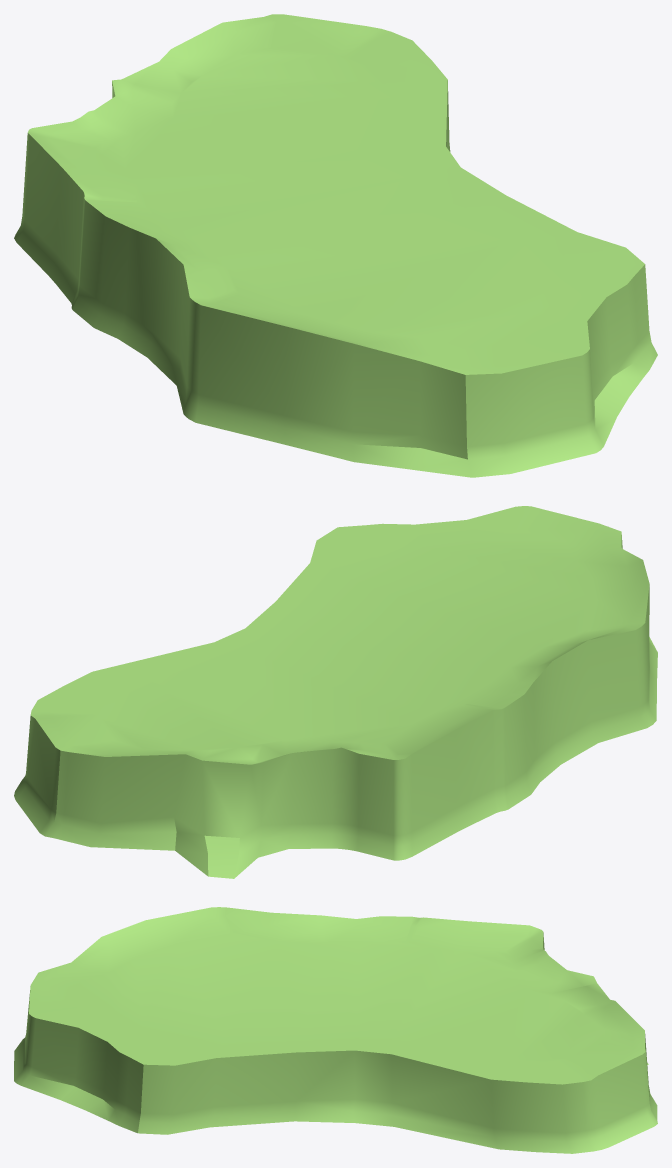
The model's file is IslandPlayer2.fbx.
3 renders of one model, top to bottom at view 1: azimuth 30°, elevation 25°; view 2: azimuth 150°, elevation 25°; view 3: azimuth 270°, elevation 25°, orthographic. The views are drawn at different scales.
Visible parts, largest first — view 1: IslandPlayer2; view 2: IslandPlayer2; view 3: IslandPlayer2.
Part boxes in pixels (x1=…): IslandPlayer2: x1=14, y1=14, x2=657, y2=477; IslandPlayer2: x1=14, y1=506, x2=657, y2=878; IslandPlayer2: x1=14, y1=907, x2=657, y2=1153.
Bounding box in the file's own units: 49.46 × 7.67 × 30.67.
